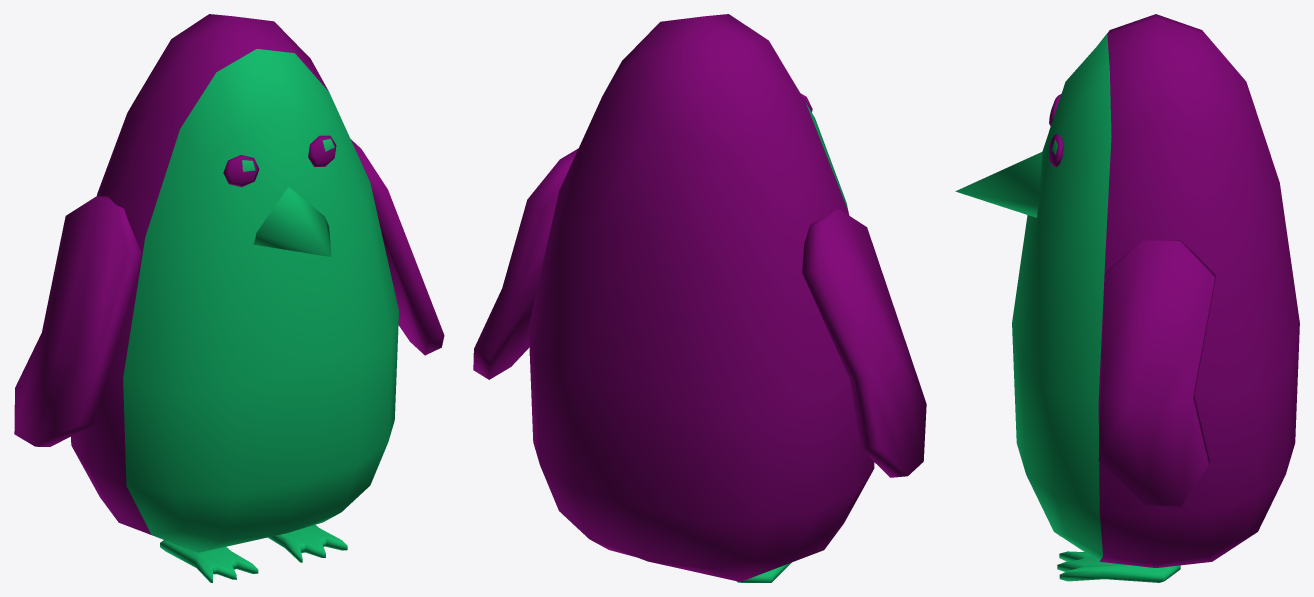
The model's file is penguin_round.fbx.
3 views of the same model, side by side, from view 1: azimuth 30°, elevation 25°; view 2: azimuth 150°, elevation 25°; view 3: azimuth 270°, elevation 25° (orthographic). The views are drawn at different scales.
Visible parts, largest first — view 1: penguin; view 2: penguin; view 3: penguin.
Boxes of the visible parts, box(x1,y1,x2,y2) form: penguin: box(14, 14, 444, 582); penguin: box(473, 14, 926, 582); penguin: box(955, 14, 1299, 582).
Bounding box in the file's own units: 47.43 × 57.18 × 33.66.
